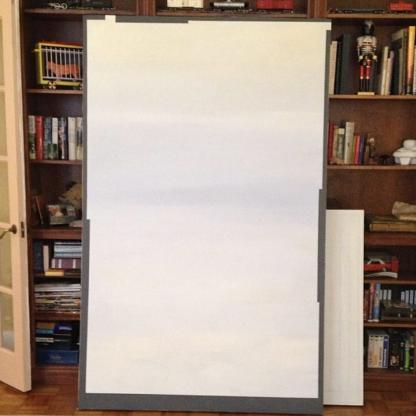door: (0, 0, 21, 397)
lever: (0, 224, 16, 247)
